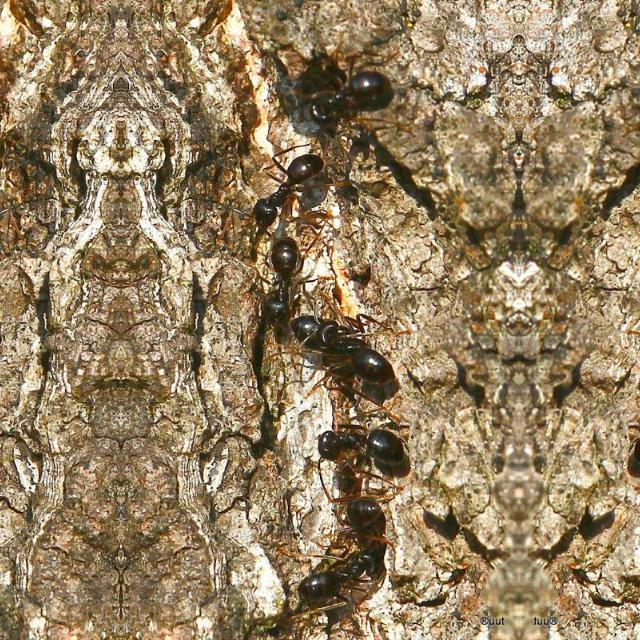Lasius: (292, 42, 420, 140), (306, 288, 410, 404), (302, 402, 423, 494), (233, 144, 345, 230), (282, 546, 398, 628), (316, 455, 404, 559), (243, 215, 311, 349), (612, 402, 640, 494)
